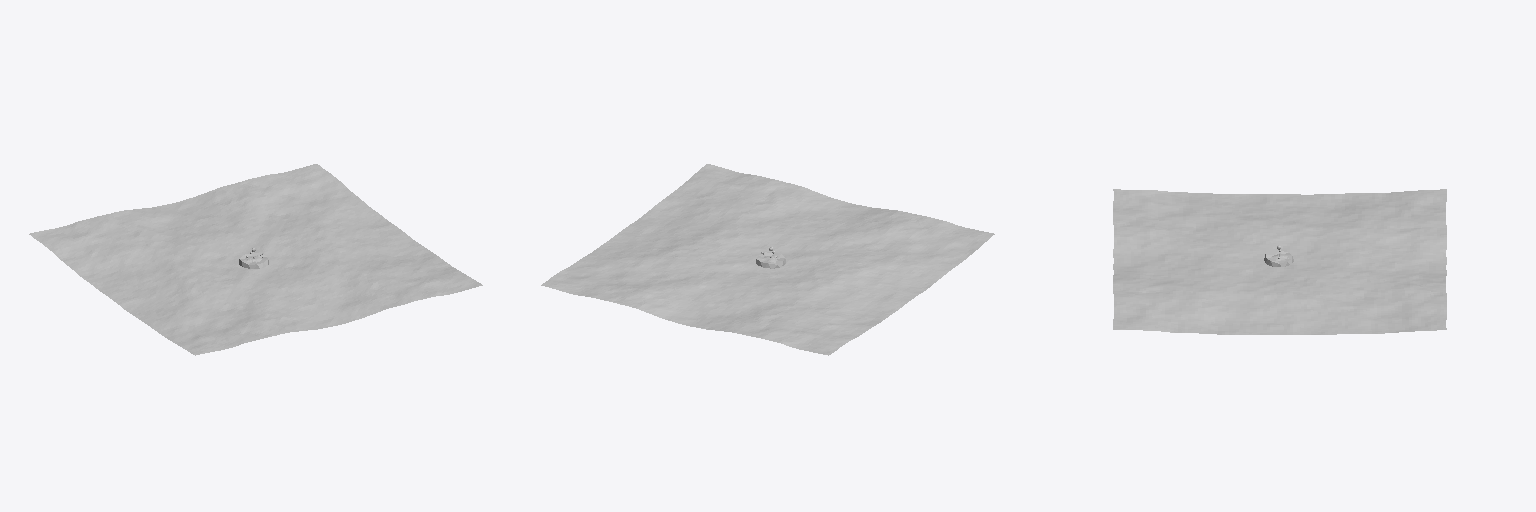
File: uploads_files_3382784_uploads_files_3382784_abolitos.obj
3 renders of one model, left to right at view 1: azimuth 30°, elevation 25°; view 2: azimuth 150°, elevation 25°; view 3: azimuth 270°, elevation 25°, orthographic.
Parts seen in each view (by area): view 1: Plane.001; view 2: Plane.001; view 3: Plane.001.
Boxes of the visible parts, <box> form: Plane.001: <box>29,164,482,355</box>; Plane.001: <box>541,164,994,355</box>; Plane.001: <box>1113,189,1446,334</box>.
Size of the model in its own units: 1210 by 71.94 by 1204.